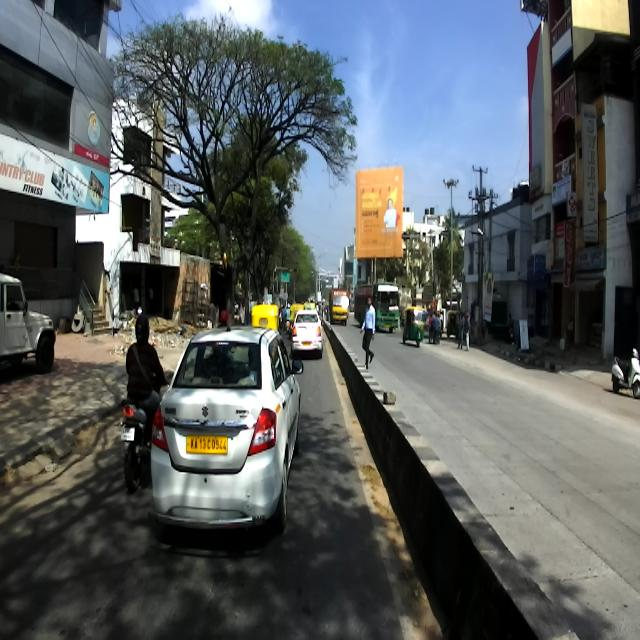car ahead at: (156, 320, 302, 540)
motorcycle ahead at: (116, 396, 163, 482)
